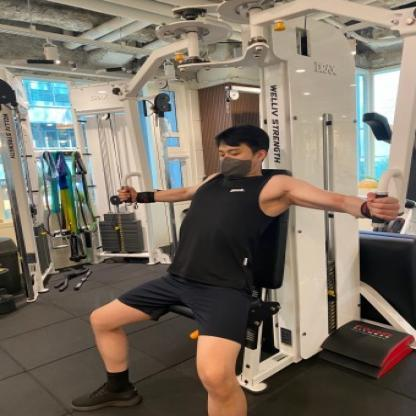chest fly machine: (43, 0, 416, 408)
